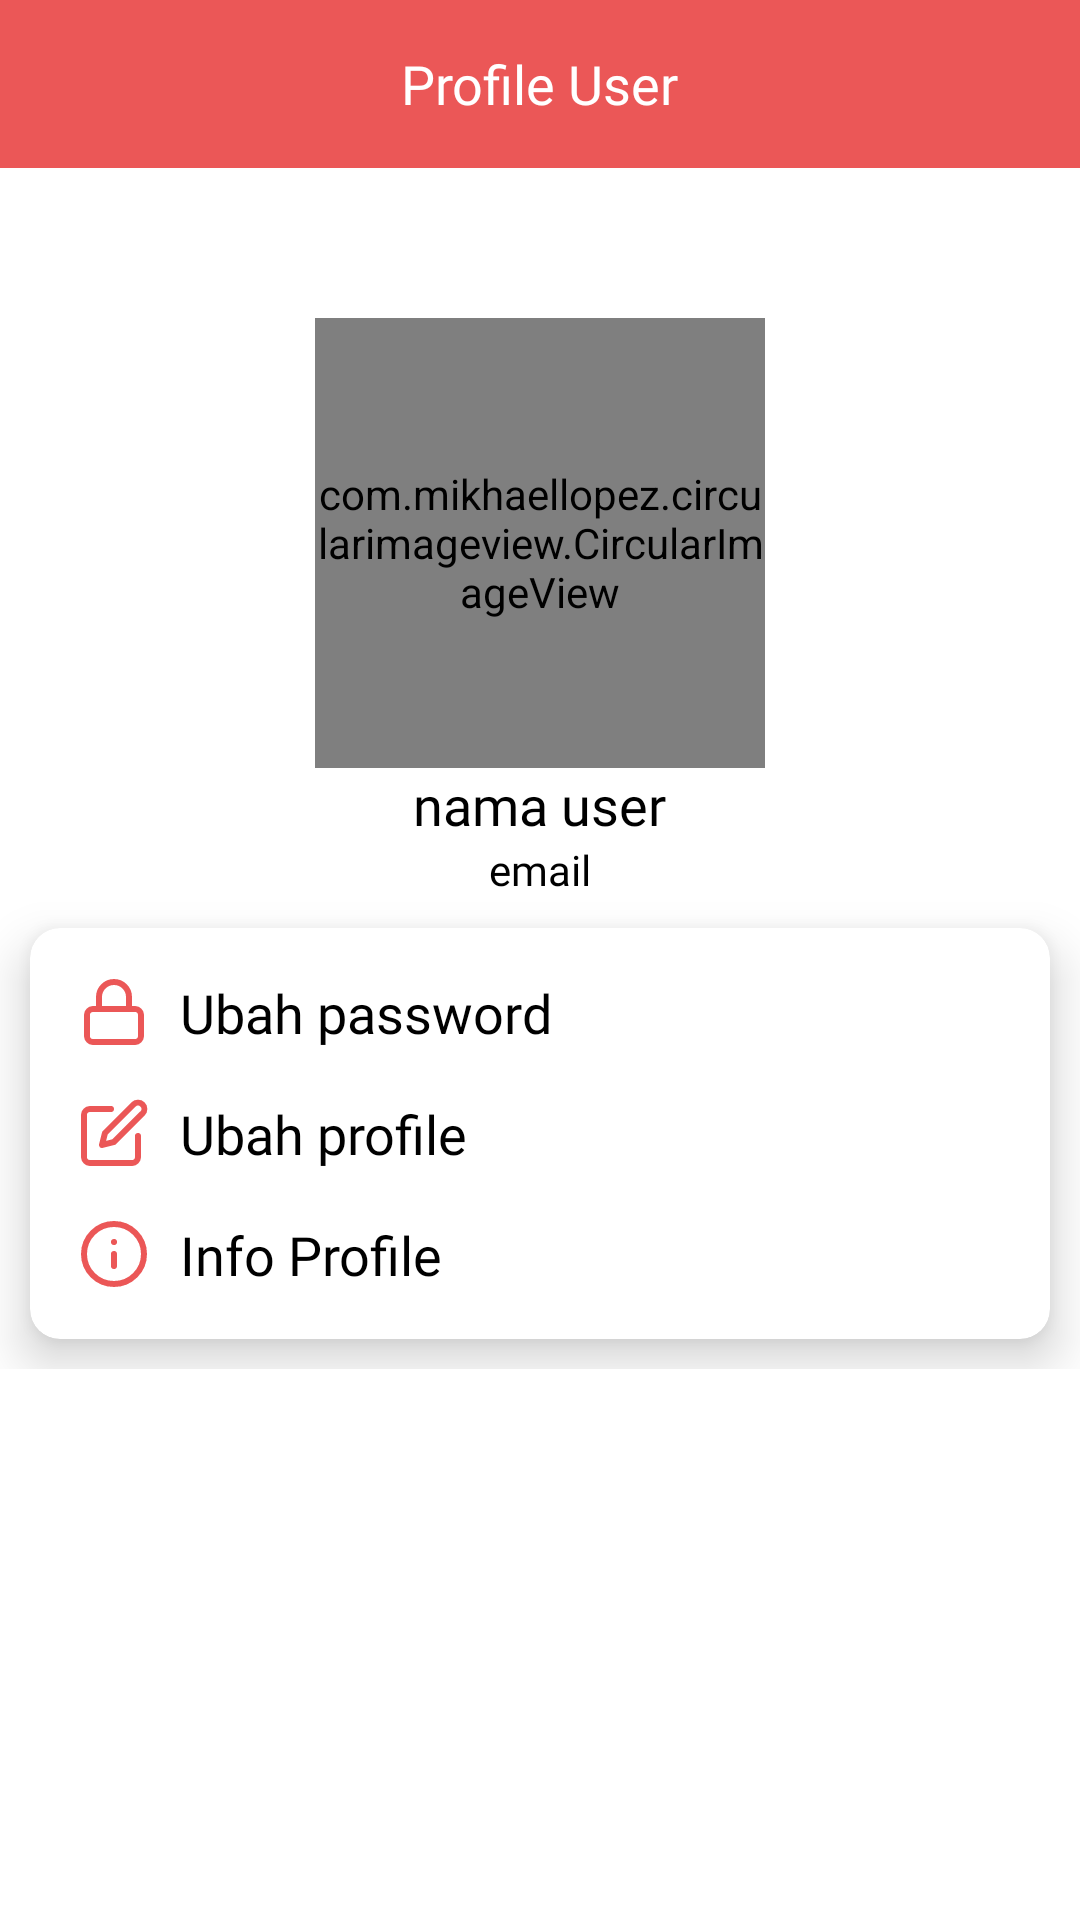

Where to tap for icons on this 1080x1920 app screen, as (x,y):
edit: (114,1132)
lock: (114,1012)
